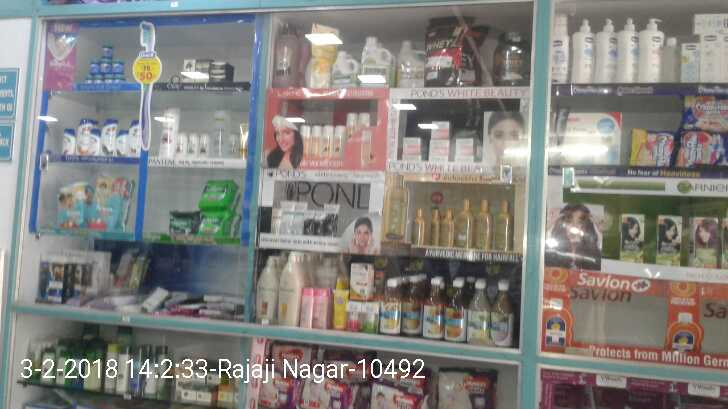beauty: (77, 113, 96, 160), (159, 104, 176, 156), (236, 119, 252, 163), (100, 118, 116, 155), (125, 117, 140, 155), (210, 60, 230, 83), (184, 132, 200, 158), (175, 131, 188, 158), (198, 127, 208, 159), (182, 60, 194, 84)
pharmacy: (88, 176, 133, 231), (55, 182, 84, 228), (200, 177, 237, 212), (197, 213, 238, 238), (99, 40, 113, 59), (86, 58, 98, 75), (113, 56, 124, 74), (99, 59, 111, 73)
